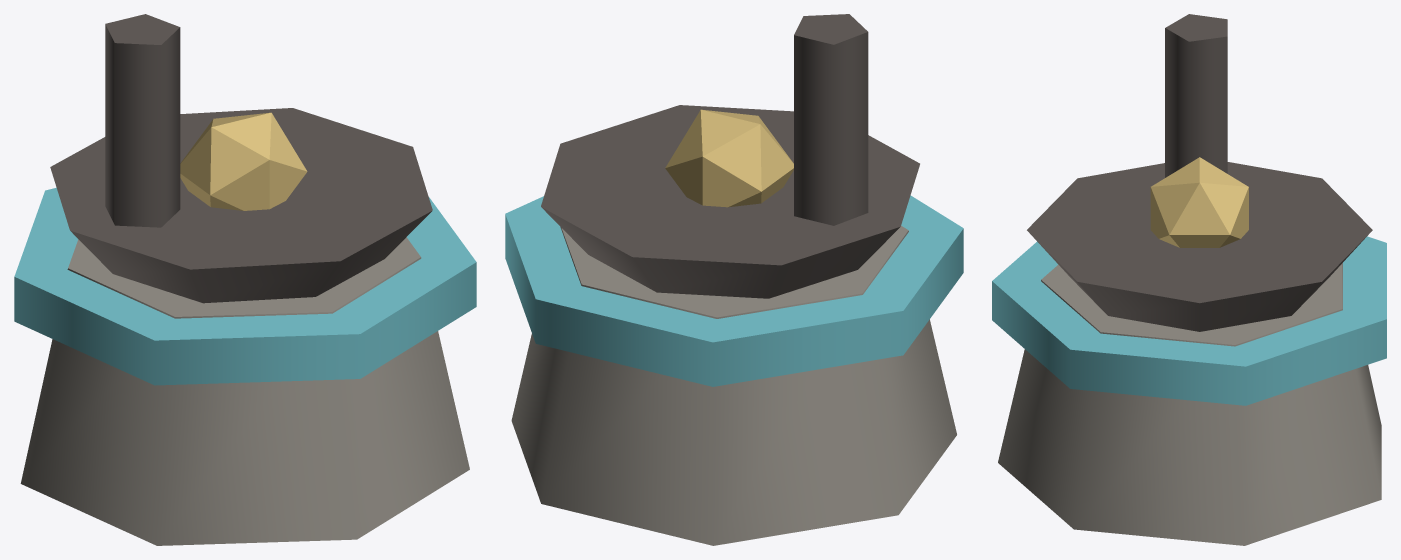
Rendered from torradora-referencia.glb.
The picture shows the model from 3 angles, left to right: view 1: azimuth 30°, elevation 25°; view 2: azimuth 150°, elevation 25°; view 3: azimuth 270°, elevation 25°; orthographic projection. The views are drawn at different scales.
Parts seen in each view (by area): view 1: torradora-1, torradora-3, torradora-2, torradora-4, torradora-5; view 2: torradora-1, torradora-3, torradora-2, torradora-4, torradora-5; view 3: torradora-1, torradora-3, torradora-2, torradora-4, torradora-5.
Part boxes in pixels (<box>): torradora-1: <box>20,237,469,545</box>; torradora-3: <box>50,108,432,303</box>; torradora-2: <box>14,187,476,385</box>; torradora-4: <box>105,14,180,227</box>; torradora-5: <box>180,112,307,210</box>; torradora-1: <box>511,225,956,545</box>; torradora-3: <box>541,105,919,298</box>; torradora-2: <box>505,195,963,386</box>; torradora-4: <box>794,14,868,225</box>; torradora-5: <box>665,109,793,207</box>; torradora-1: <box>998,263,1381,545</box>; torradora-3: <box>1027,162,1372,331</box>; torradora-2: <box>992,236,1386,405</box>; torradora-4: <box>1165,14,1227,177</box>; torradora-5: <box>1150,157,1248,247</box>.
Size of the model in its own units: 1.22 by 1.3 by 1.19.
